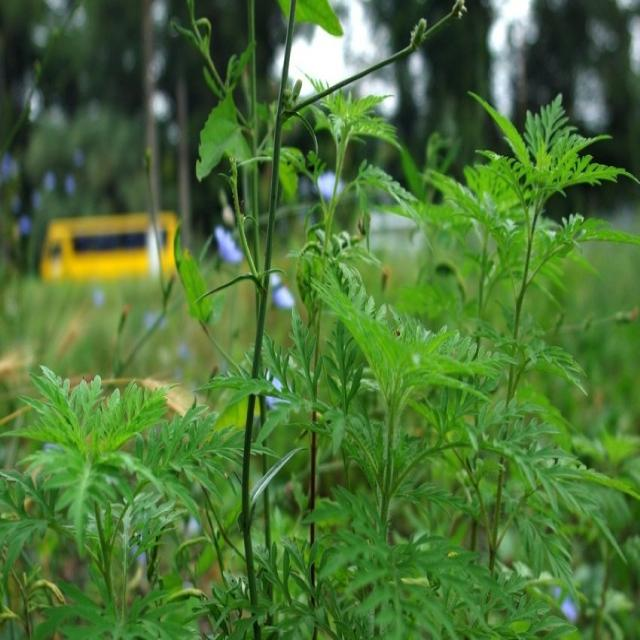ambrosia: (306, 63, 438, 514), (22, 345, 219, 640), (459, 84, 604, 453)
